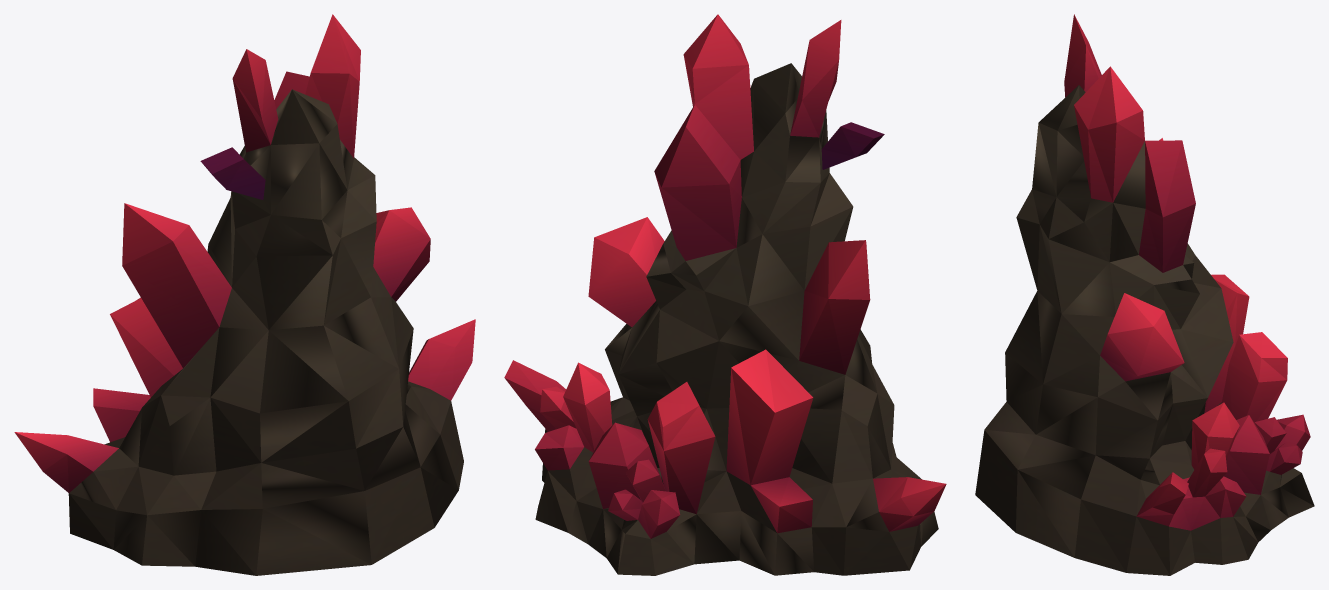
The model's file is ZLP_Crystalk_B_7.FBX.
3 views of the same model, side by side, from view 1: azimuth 30°, elevation 25°; view 2: azimuth 150°, elevation 25°; view 3: azimuth 270°, elevation 25° (orthographic). The views are drawn at different scales.
Parts seen in each view (by area): view 1: ZLP_Crystalk_B_7; view 2: ZLP_Crystalk_B_7; view 3: ZLP_Crystalk_B_7.
Boxes of the visible parts, box(x1,y1,x2,y2) form: ZLP_Crystalk_B_7: box(14, 14, 475, 575); ZLP_Crystalk_B_7: box(504, 14, 946, 575); ZLP_Crystalk_B_7: box(975, 14, 1314, 575).
Size of the model in its own units: 192 by 200 by 137.
